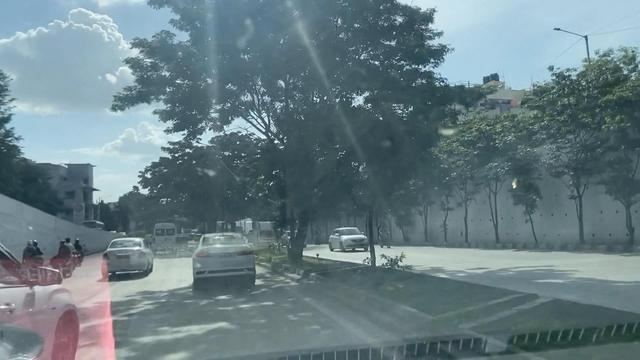LMV: (193, 232, 256, 285), (103, 237, 152, 281)
